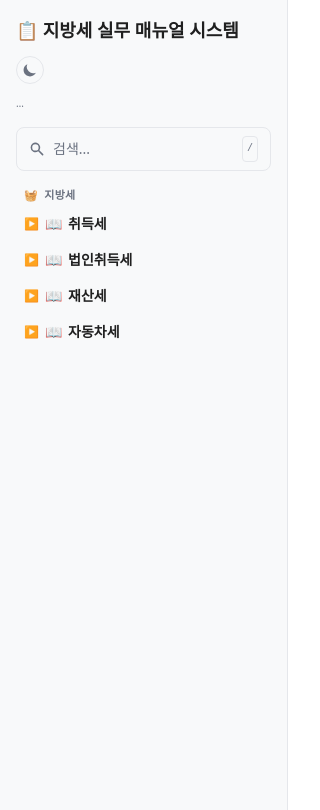
Sidebar (Tailwind, Book-based Navigation) › 책을 클릭하면 하위 트리가 펼쳐진다
This screenshot has width=320, height=810.
Note: 취득세 책을 클릭
Click the button "▶ 📖 취득세". click: (144, 224)
box: [16,208,271,240]
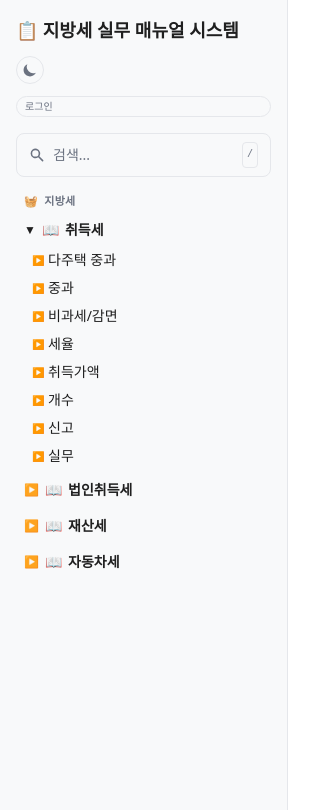
Result: the text "세율" is shown at [48,334,74,354]
Result: the text "신고" is shown at [48,418,74,438]
